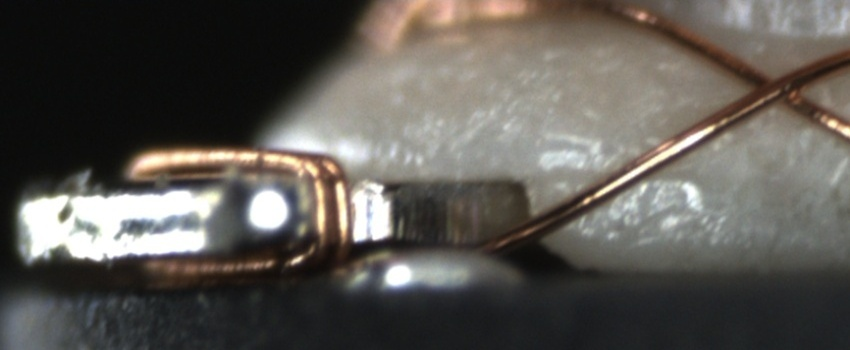CL: (731, 57, 824, 118)
DL: (546, 148, 698, 206)
TE: (123, 145, 356, 278)
